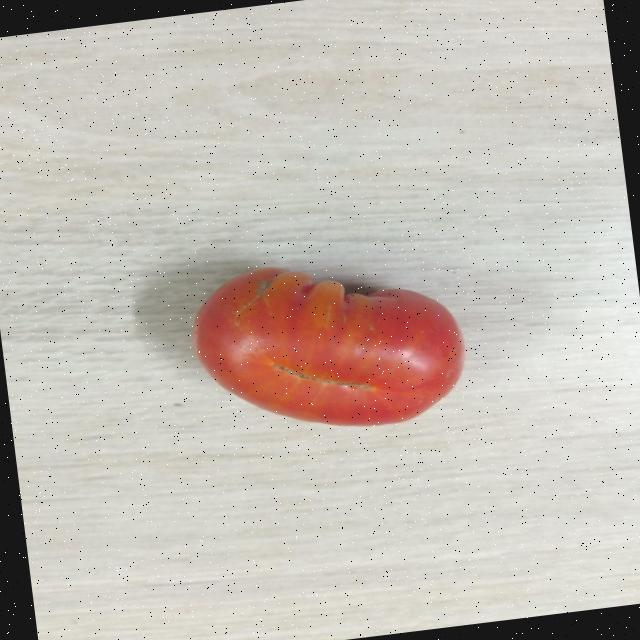Tomato: (182, 241, 477, 448)
